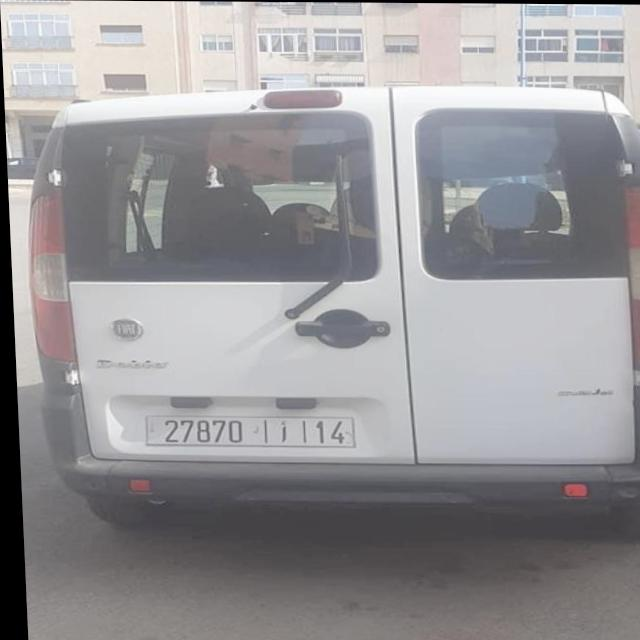License-Plate: (142, 416, 350, 446)
